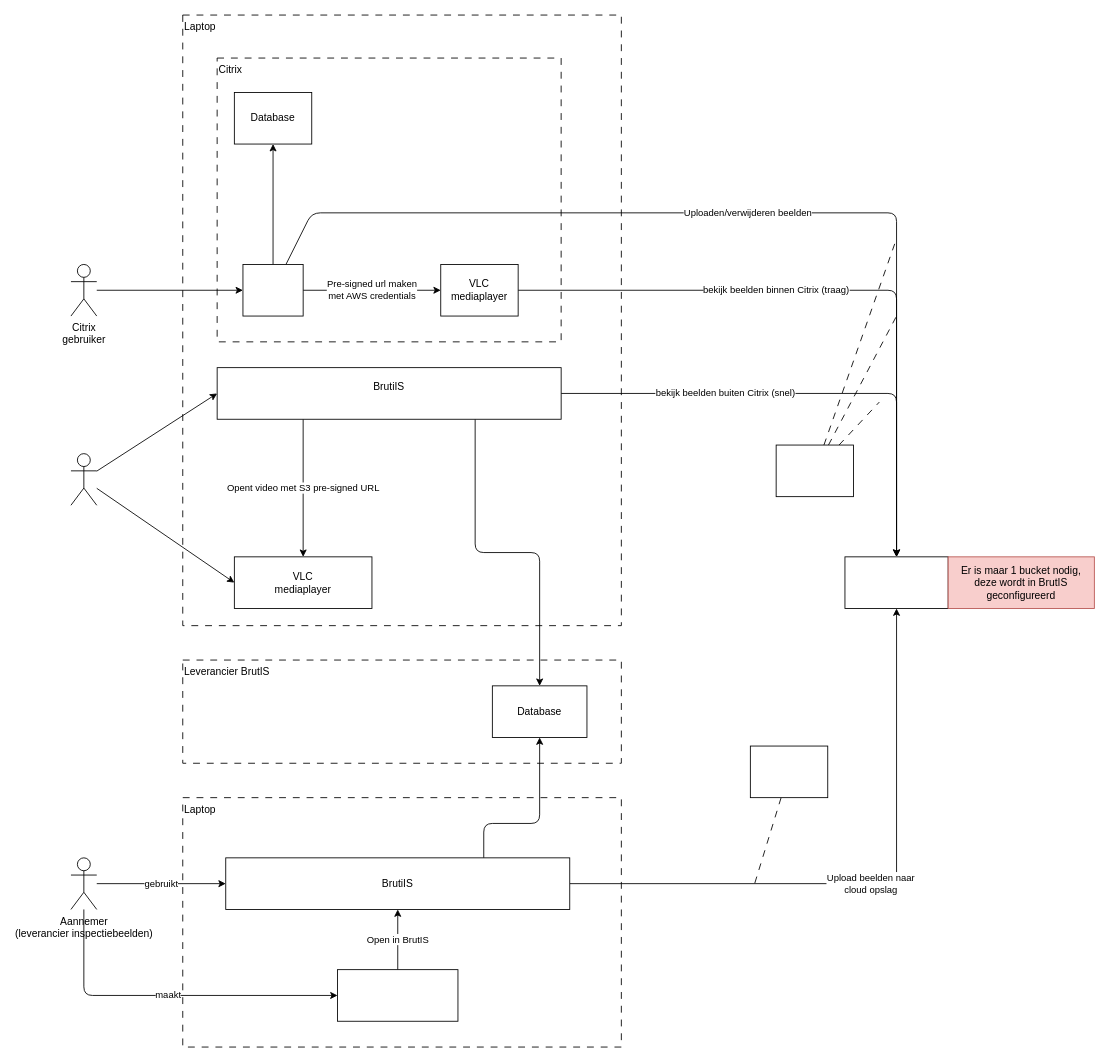
The diagram is 1109 pixels wide and 1062 high, and some of its shapes have lost their labels. Each missing label, with the centre of its shape:
AWS IAM user (extern): the point at 788,771
AWS IAM user (intern): the point at 814,470
BrutIS: the point at 272,290
Gebruiker (buiten Citrix): the point at 83,479
Inspectie beelden: the point at 397,995
Rioolfilmpjes (AWS S3): the point at 896,582
